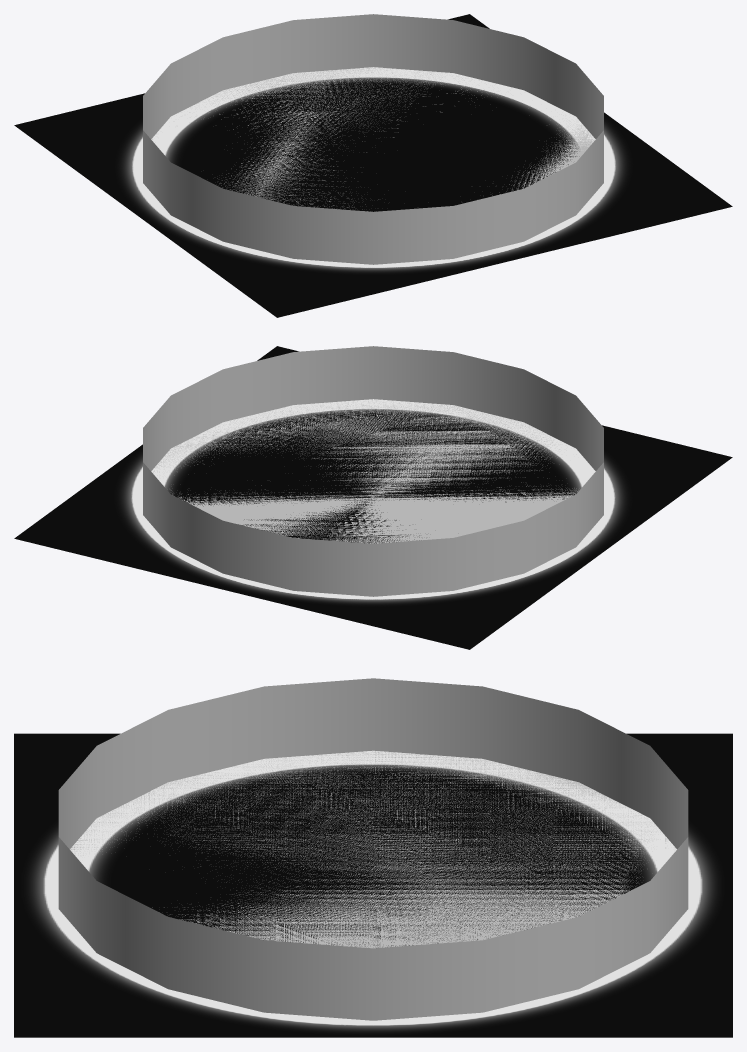
Rendered from teleport_platform.fbx.
The picture shows the model from 3 angles, top to bottom: view 1: azimuth 30°, elevation 25°; view 2: azimuth 150°, elevation 25°; view 3: azimuth 270°, elevation 25°; orthographic projection. The views are drawn at different scales.
Parts seen in each view (by area): view 1: Plane001, Cylinder001; view 2: Cylinder001, Plane001; view 3: Plane001, Cylinder001.
Part boxes in pixels (x1,y1,x2,y2): Plane001: (14, 14, 732, 317); Cylinder001: (143, 14, 603, 264); Cylinder001: (143, 346, 603, 596); Plane001: (14, 346, 732, 649); Plane001: (14, 733, 732, 1037); Cylinder001: (58, 678, 688, 1020).
Bounding box in the file's own units: 45 × 5 × 45.
